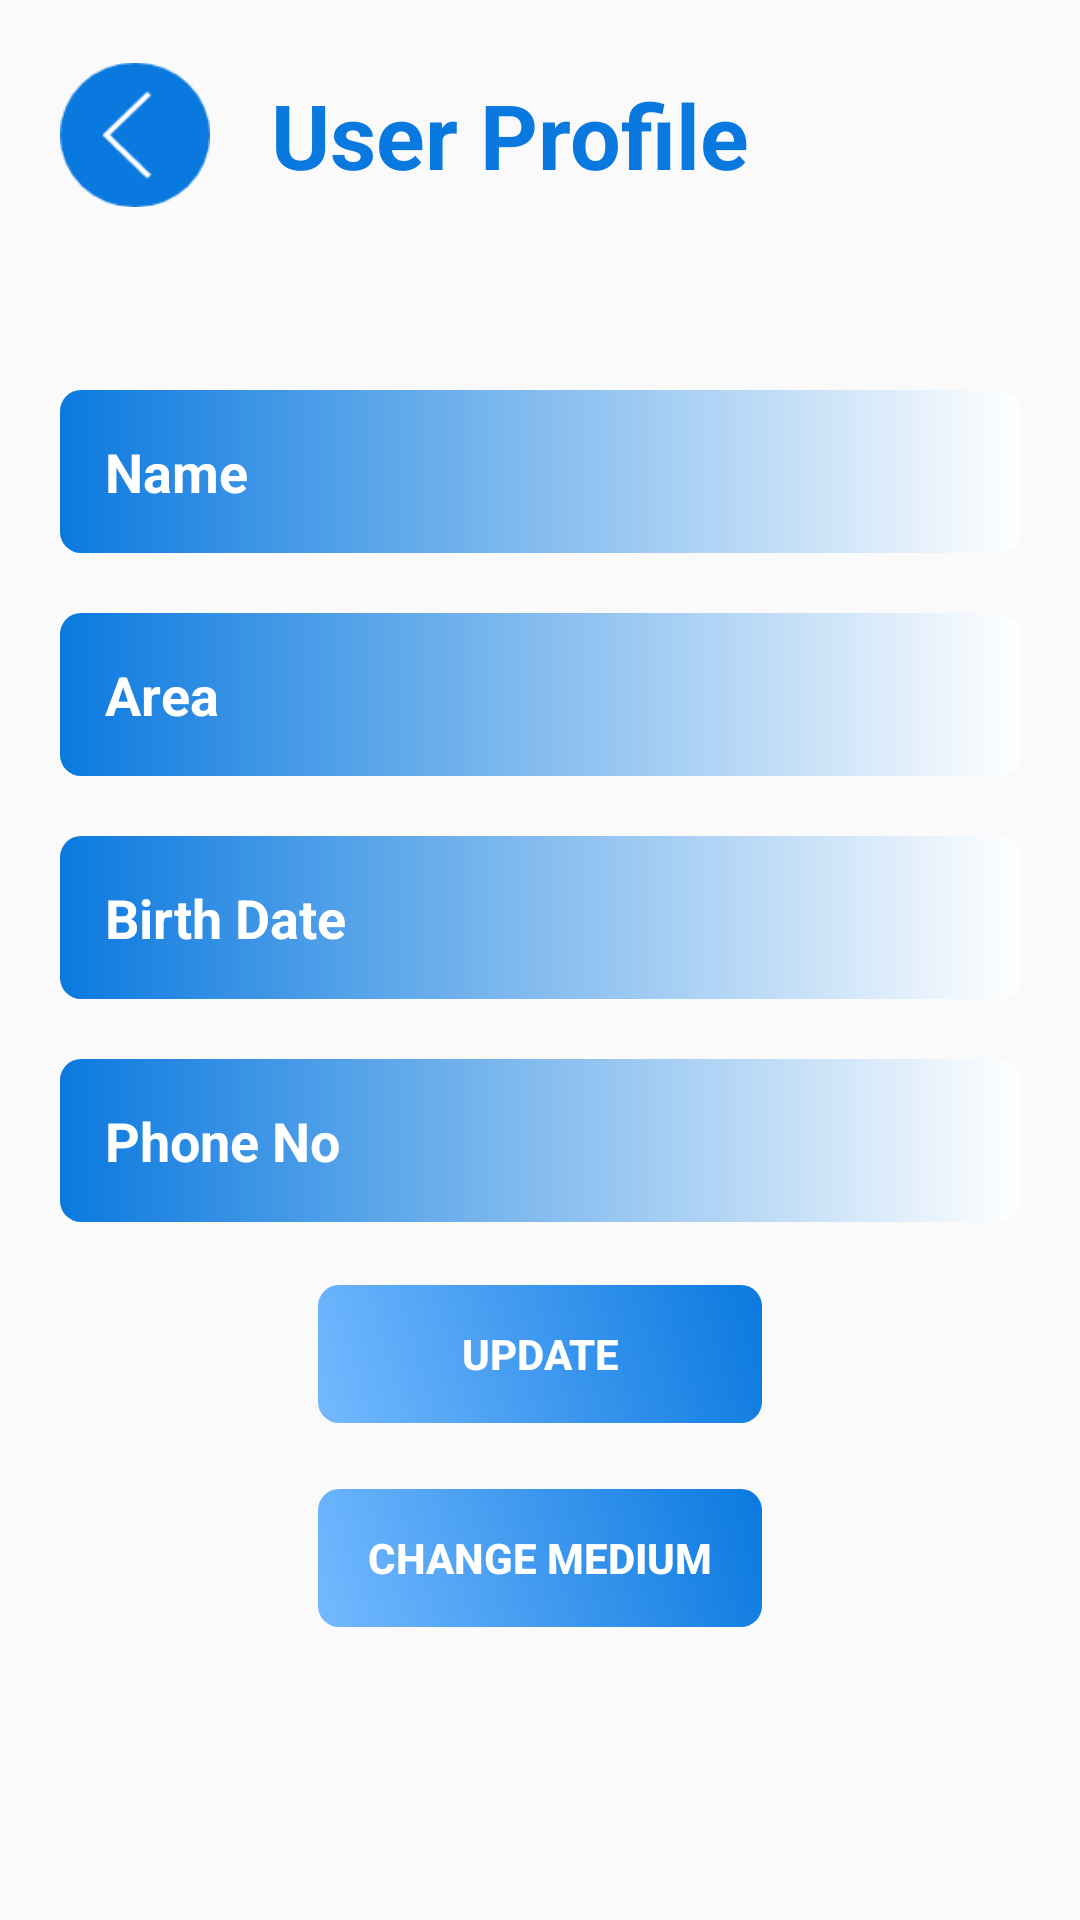

Screen size 1080px×1920px. Icon name, then its box in pixels as (x1, y1, x2, y2):
backiconcolor: (60, 63, 210, 207)
